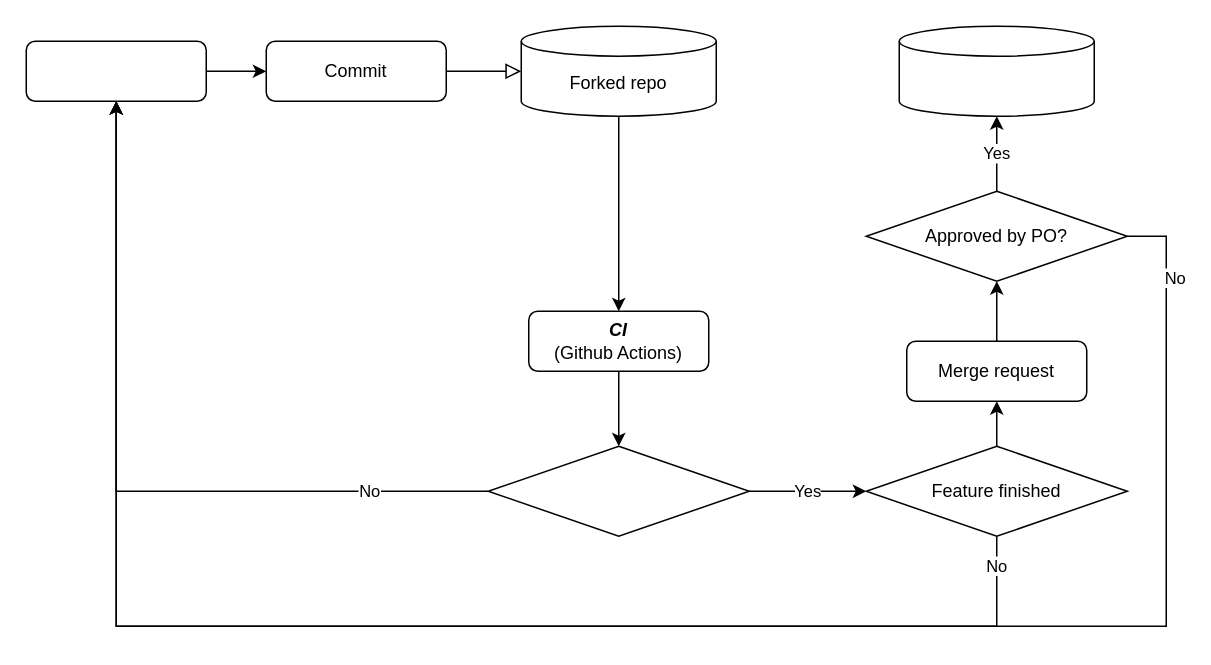
This 1211x665 diagram has some shape labels left out. The shapes that lost their labels are listed below. From the top down, each one's box as (x1, y1, x2, y2) in pixels, then its label:
(25, 40, 206, 101): Development
(898, 25, 1094, 116): Project Repo
(487, 445, 749, 536): All test passed?
